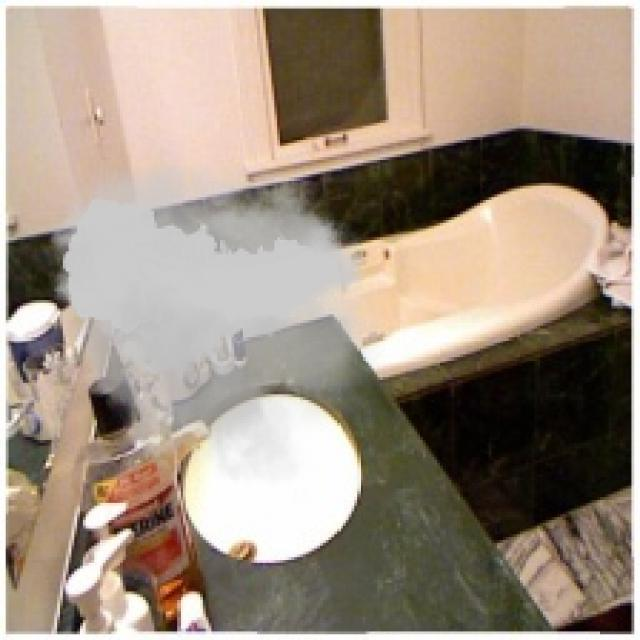Smoke: (40, 137, 386, 503)
